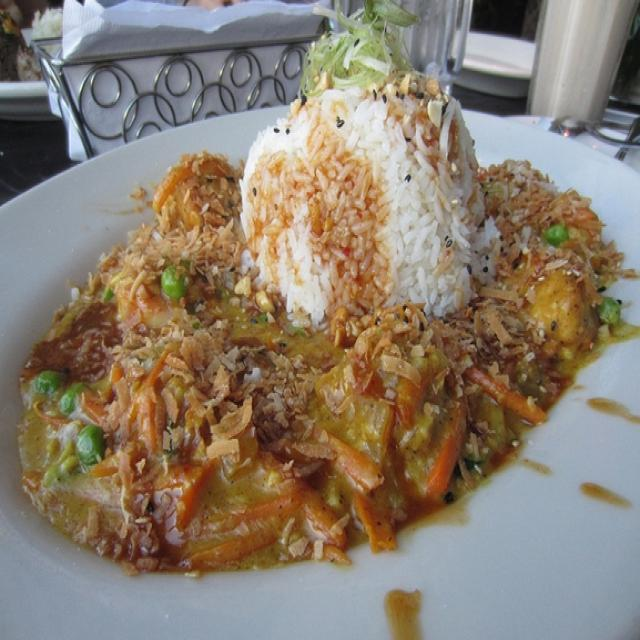米饭主食: (3, 15, 631, 621)
